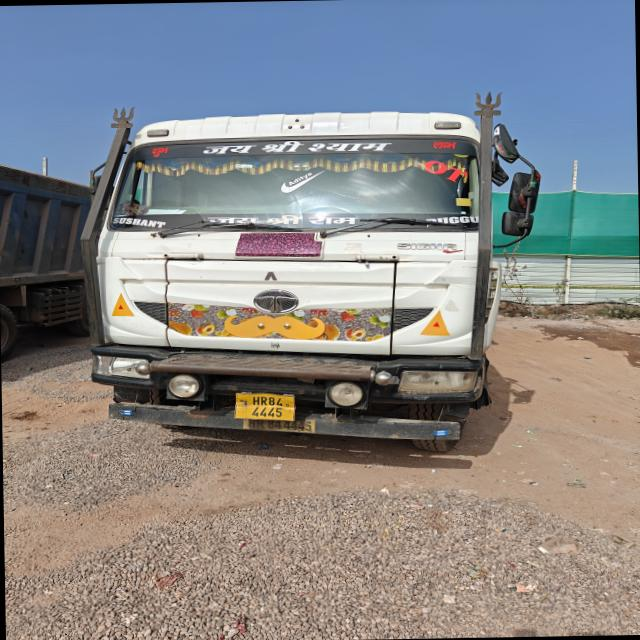license_plate: (235, 394, 294, 420)
